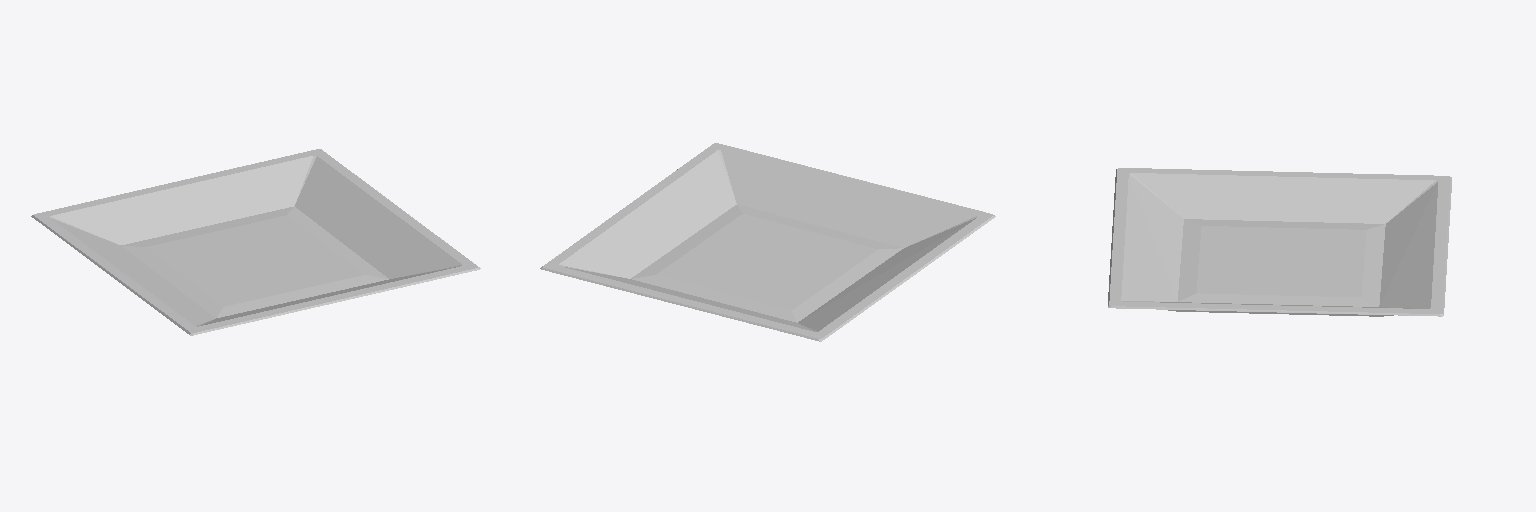
Rendered from squareplate_01.obj.
3 views of the same model, side by side, from view 1: azimuth 30°, elevation 25°; view 2: azimuth 150°, elevation 25°; view 3: azimuth 270°, elevation 25° (orthographic).
Visible parts, largest first — view 1: squareplate_01_squareplate_01_Mesh.003; view 2: squareplate_01_squareplate_01_Mesh.003; view 3: squareplate_01_squareplate_01_Mesh.003.
Boxes of the visible parts, x1=… form: squareplate_01_squareplate_01_Mesh.003: x1=31, y1=149, x2=480, y2=335; squareplate_01_squareplate_01_Mesh.003: x1=540, y1=143, x2=995, y2=341; squareplate_01_squareplate_01_Mesh.003: x1=1108, y1=168, x2=1451, y2=316.
Bounding box in the file's own units: 0.156 × 0.0176 × 0.1585.